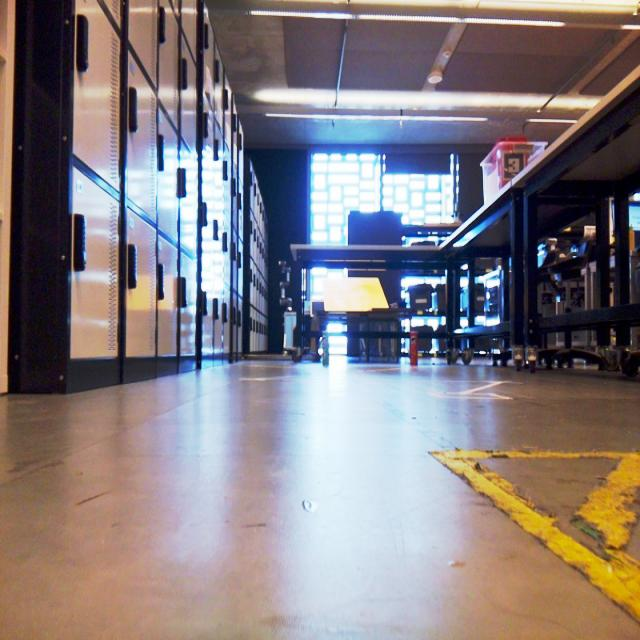greenpringles: (318, 328, 338, 372)
redpringles: (406, 327, 422, 371)
